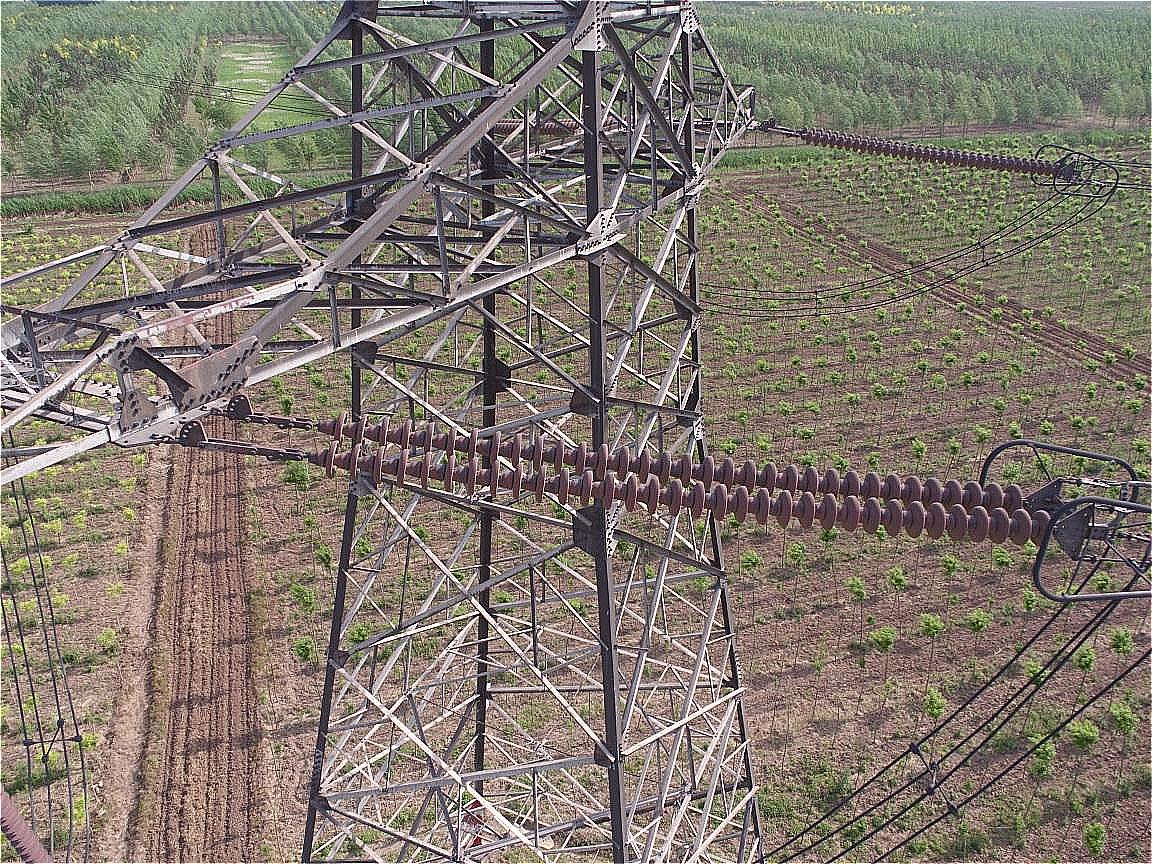insultor1: (325, 409, 1051, 546), (803, 123, 1062, 179)
